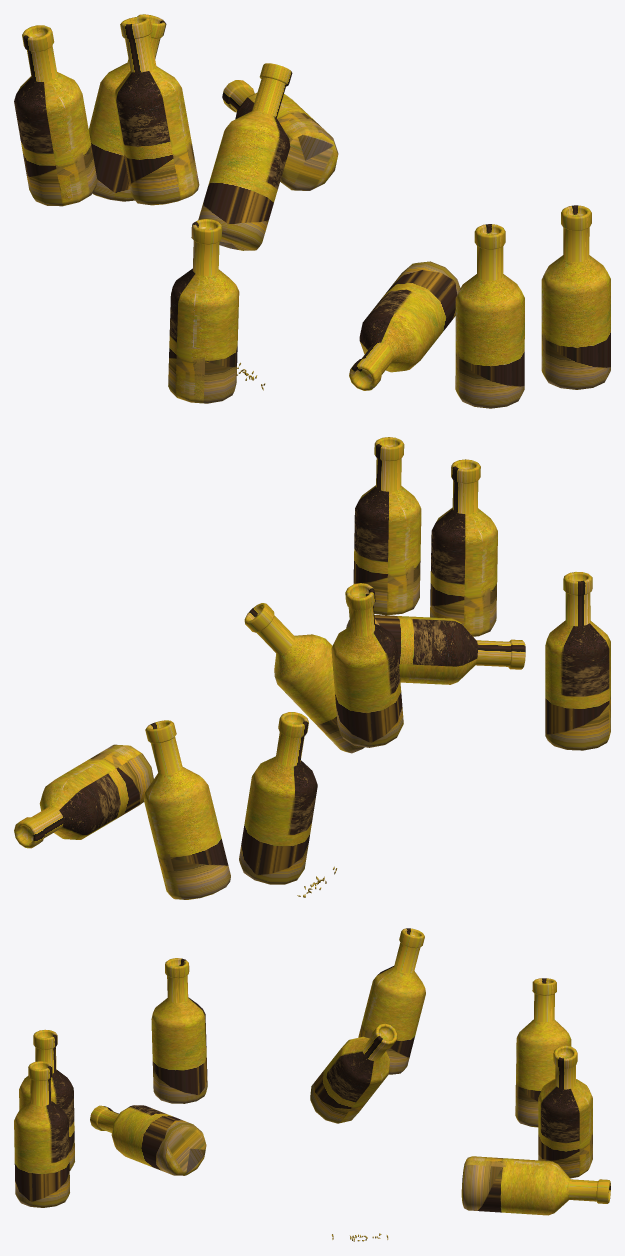
The model's file is glass bottle blend.fbx.
3 views of the same model, one above another, from view 1: azimuth 30°, elevation 25°; view 2: azimuth 150°, elevation 25°; view 3: azimuth 270°, elevation 25° (orthographic). The views are drawn at different scales.
Visible parts, largest first — view 1: group6_polySurface72; view 2: group6_polySurface72; view 3: group6_polySurface72.
Boxes of the visible parts, x1,y1,x2,y2 form: group6_polySurface72: (14, 14, 610, 408); group6_polySurface72: (14, 437, 610, 899); group6_polySurface72: (14, 928, 610, 1241).
Bounding box in the file's own units: 1.32 × 1.26 × 2.43.
